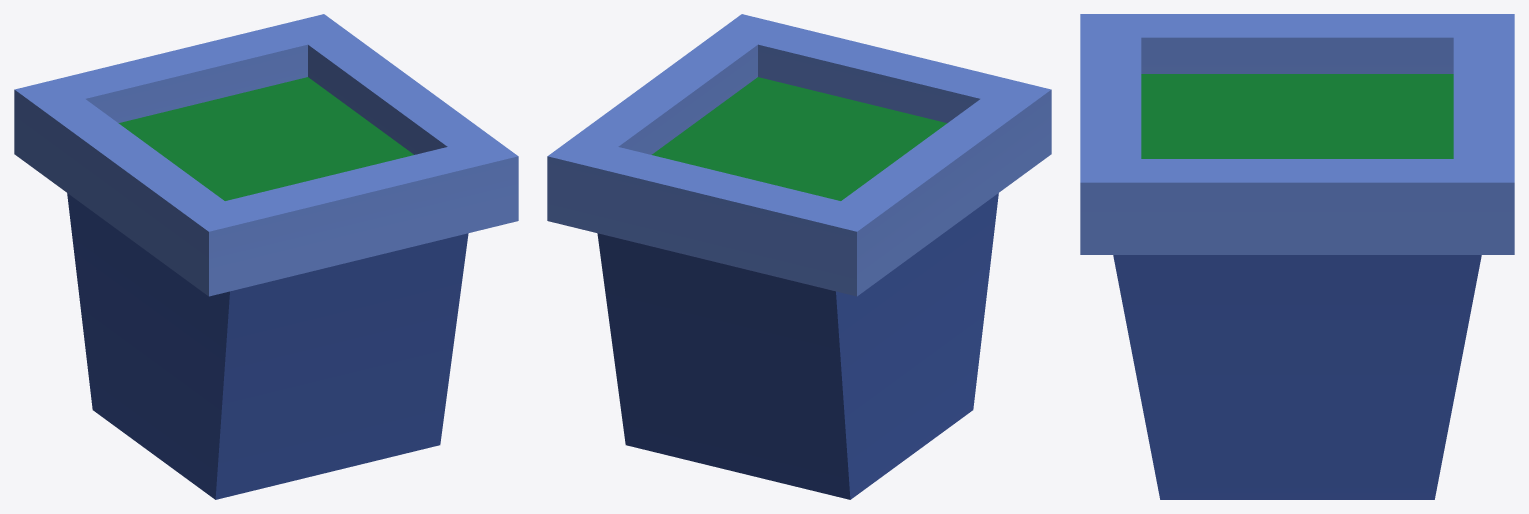
Rendered from FlowerPot_5_3_E.glb.
3 renders of one model, left to right at view 1: azimuth 30°, elevation 25°; view 2: azimuth 150°, elevation 25°; view 3: azimuth 270°, elevation 25°, orthographic. The views are drawn at different scales.
Parts seen in each view (by area): view 1: FlowerPot_5_3_E; view 2: FlowerPot_5_3_E; view 3: FlowerPot_5_3_E.
Part boxes in pixels (x1,y1,x2,y2): FlowerPot_5_3_E: [14, 14, 518, 499]; FlowerPot_5_3_E: [547, 14, 1051, 499]; FlowerPot_5_3_E: [1080, 14, 1514, 499].
Bounding box in the file's own units: 0.3246 × 0.3052 × 0.353.
Materials: 1 (1 with a texture image).
